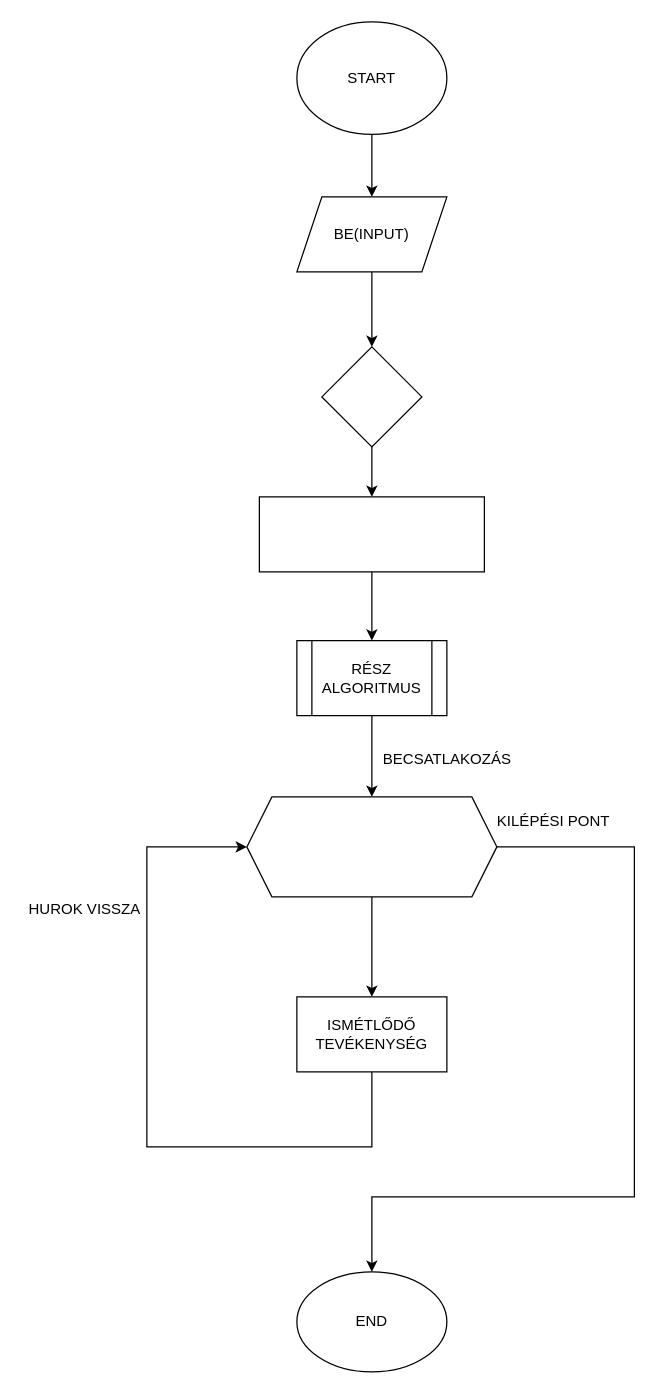
The diagram is 666 pixels wide and 1394 high, and some of its shapes have lost their labels. Each missing label, with the box of its shape:
BEÁLLÍT,VIZSGÁL,LÉPTET: (246, 796, 497, 897)
FELTÉTEL: (321, 346, 422, 447)
VÁLTOZÓ=KIFEJEZÉS: (258, 496, 484, 572)
